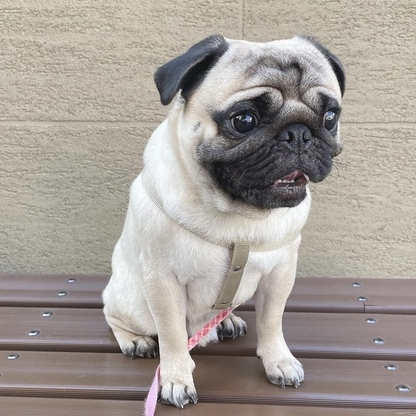Pug: (98, 31, 350, 411)
